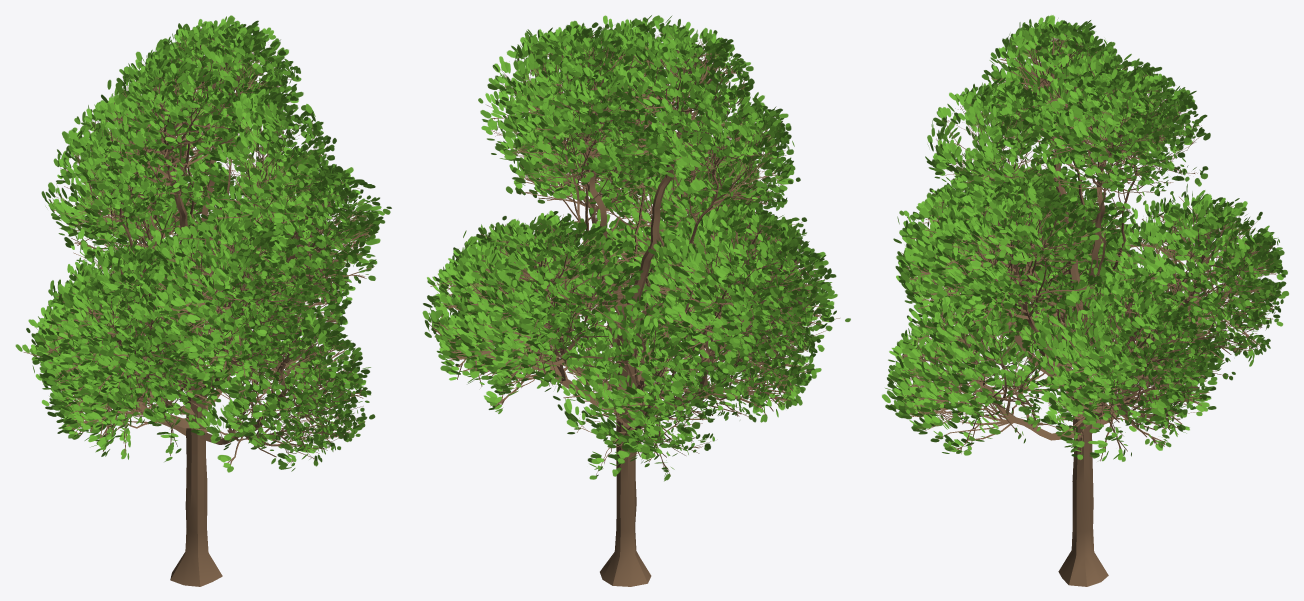
Rendered from tree3d-transformed.glb.
3 renders of one model, left to right at view 1: azimuth 30°, elevation 25°; view 2: azimuth 150°, elevation 25°; view 3: azimuth 270°, elevation 25°, orthographic. The views are drawn at different scales.
Visible parts, largest first — view 1: oak 01, oak 01.001; view 2: oak 01, oak 01.001; view 3: oak 01, oak 01.001.
Part boxes in pixels (x1,y1,x2,y2): oak 01: [15, 15, 391, 472]; oak 01.001: [23, 30, 374, 586]; oak 01: [422, 15, 850, 481]; oak 01.001: [429, 28, 839, 586]; oak 01: [882, 15, 1288, 461]; oak 01.001: [890, 32, 1281, 586].
Bounding box in the file's own units: 0.3679 × 0.564 × 0.389.
Materials: 2 (1 with a texture image).
